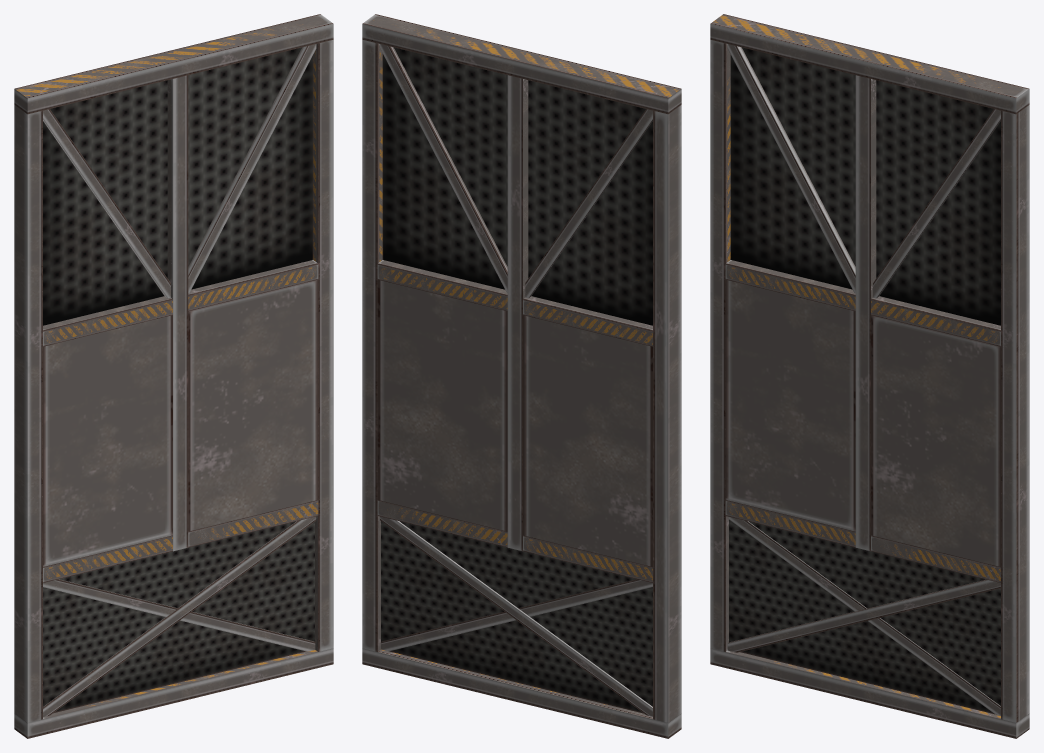
Rendered from SM_ENV_GRADE_2M.fbx.
3 views of the same model, side by side, from view 1: azimuth 30°, elevation 25°; view 2: azimuth 150°, elevation 25°; view 3: azimuth 330°, elevation 25° (orthographic).
Parts seen in each view (by area): view 1: SM_ENV_GRADE_2M; view 2: SM_ENV_GRADE_2M; view 3: SM_ENV_GRADE_2M.
Boxes of the visible parts, x1,y1,x2,y2 form: SM_ENV_GRADE_2M: (14,14,333,738); SM_ENV_GRADE_2M: (362,14,681,738); SM_ENV_GRADE_2M: (710,14,1029,738).
Bounding box in the file's own units: 2 × 4 × 0.15.
